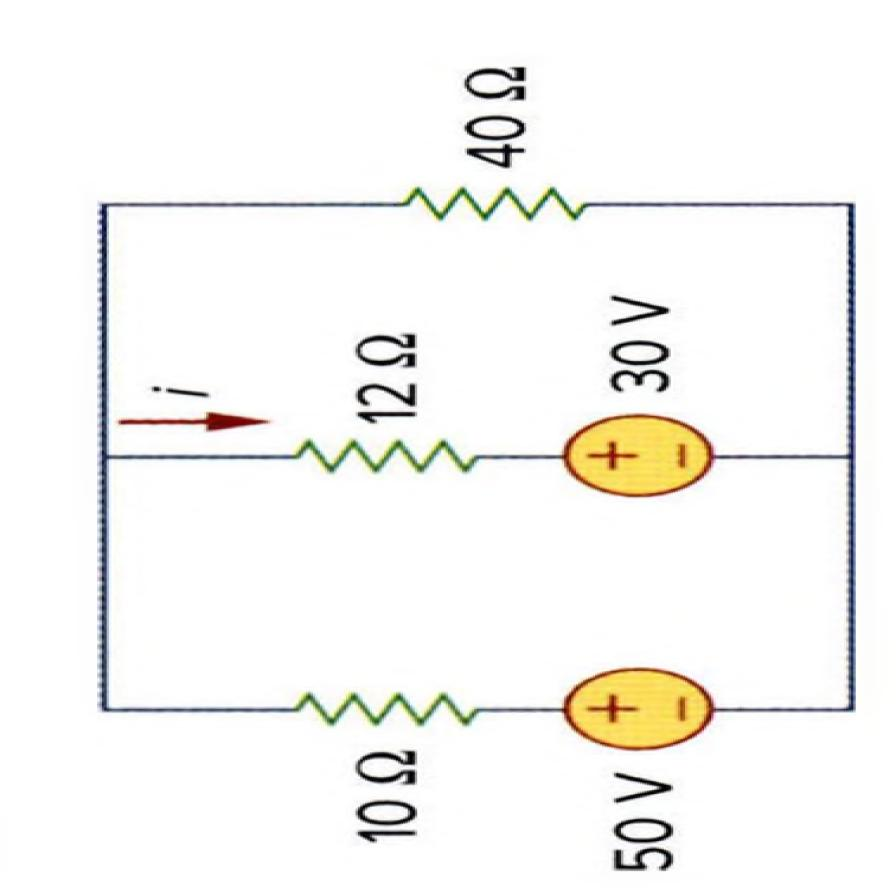V4: (548, 654, 722, 758), (550, 405, 722, 503)
